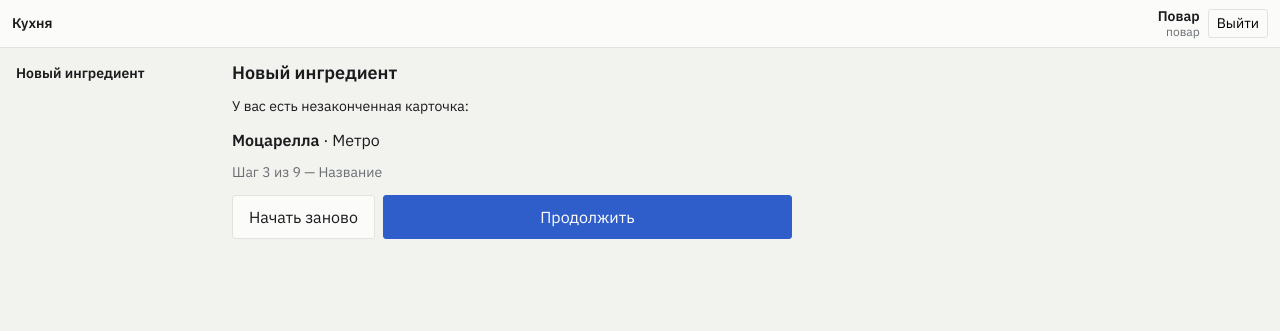
Test: есть незаконченная карточка — «Продолжить» открывает её шаг с её данными
The image size is (1280, 331).
expect the text "Моцарелла" is shown: met, box x1=232 y1=130 x2=320 y2=150
expect the text "Шаг 3 из 9 — Название" is shown: met, box x1=232 y1=163 x2=382 y2=181
Click the button "Продолжить" at x=587, y=217, box x1=383 y1=195 x2=792 y2=239
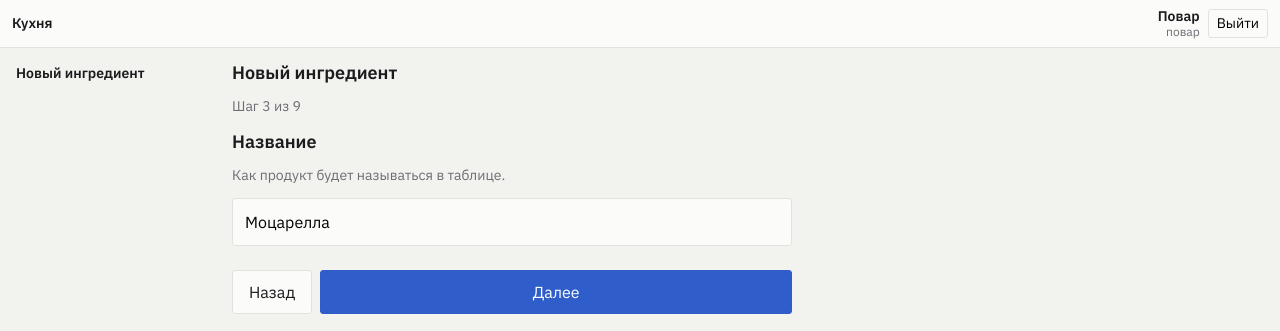
expect the heading "Название" is shown: met, box x1=232 y1=130 x2=316 y2=153
expect the field labelled "Название" holds "Моцарелла": met, box x1=232 y1=198 x2=792 y2=246
